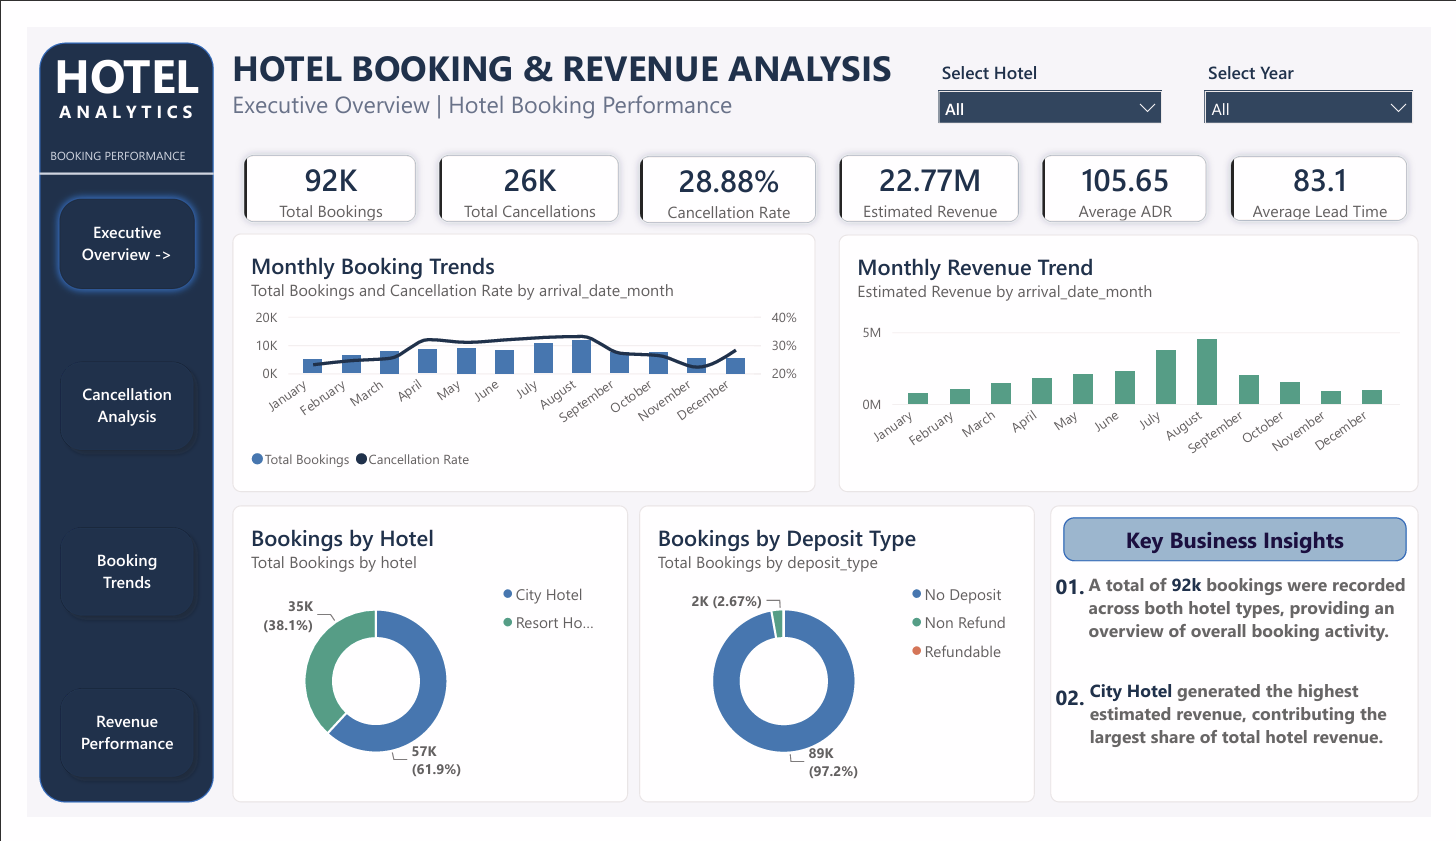

This screenshot's page, from the dashboard's own definition file:
{"tool":"powerbi","page":{"name":"Executive Overview","canvas":[1280,720],"ordinal":0},"visuals":[{"type":"textbox","box":[186.6,13.7,1082.7,81],"z":0},{"type":"textbox","box":[186.6,54.9,465.2,39.8],"z":1000},{"type":"shape","box":[11,13.7,159.2,693],"z":2000},{"type":"textbox","box":[11,13.7,159.2,65.9],"z":3000},{"type":"textbox","box":[20.6,105.7,149.6,28.8],"z":4000},{"type":"shape","box":[11,119.4,159.2,28.8],"z":5000},{"type":"actionButton","box":[20.6,148.2,140,98.8],"z":6000},{"type":"textbox","box":[28.8,65.9,141.3,28.8],"z":7000},{"type":"actionButton","box":[20.6,296.4,140,98.8],"z":8000},{"type":"actionButton","box":[20.6,447.3,140,98.8],"z":9000},{"type":"actionButton","box":[20.6,594.2,140,98.8],"z":10000},{"type":"cardVisual","fields":{"Data":["Hotel Measures.Total Bookings"]},"box":[186.6,105.7,178.4,82.3],"z":11000},{"type":"cardVisual","fields":{"Data":["Hotel Measures.Average Lead Time"]},"box":[1086.8,107,182.5,81],"z":12000},{"type":"cardVisual","fields":{"Data":["Hotel Measures.Total Cancellations"]},"box":[365,105.7,185.2,82.3],"z":13000},{"type":"cardVisual","fields":{"Data":["Hotel Measures.Estimated Revenue"]},"box":[730,105.7,185.2,82.3],"z":14000},{"type":"cardVisual","fields":{"Data":["Hotel Measures.Cancellation Rate"]},"box":[547.5,107,182.5,82.3],"z":15000},{"type":"cardVisual","fields":{"Data":["Hotel Measures.Average ADR"]},"box":[915.3,105.7,171.5,82.3],"z":16000},{"type":"lineClusteredColumnComboChart","title":"Monthly Booking Trends","fields":{"Category":["public hotel_bookings_unique.arrival_date_month"],"Y":["Hotel Measures.Total Bookings"],"Y2":["Hotel Measures.Cancellation Rate"]},"box":[186.6,188,532.4,236],"z":17000},{"type":"clusteredColumnChart","title":"Monthly Revenue Trend","fields":{"Category":["public hotel_bookings_unique.arrival_date_month"],"Y":["Hotel Measures.Estimated Revenue"]},"box":[739.6,189.4,529.7,234.6],"z":18000},{"type":"donutChart","title":"Bookings by Hotel","fields":{"Category":["public hotel_bookings_unique.hotel"],"Y":["Hotel Measures.Total Bookings"]},"box":[186.6,436.4,360.9,270.3],"z":19000},{"type":"donutChart","title":"Bookings by Deposit Type","fields":{"Category":["public hotel_bookings_unique.deposit_type"],"Y":["Hotel Measures.Total Bookings"]},"box":[558.5,436.4,360.9,270.3],"z":20000},{"type":"textbox","title":"Key Insights","box":[933.1,436.4,336.2,270.3],"z":21000},{"type":"slicer","fields":{"Values":["public hotel_bookings_unique.arrival_date_year"]},"box":[1069,30.2,200.3,64.5],"z":22000},{"type":"slicer","fields":{"Values":["public hotel_bookings_unique.hotel"]},"box":[826.1,30.2,214.1,64.5],"z":23000},{"type":"shape","box":[945.5,447.3,312.9,39.8],"z":24000},{"type":"textbox","box":[968.3,496.7,290,75],"z":25000},{"type":"textbox","box":[932.8,497,35.7,195.7],"z":26000},{"type":"textbox","box":[968.5,594,289.4,98.7],"z":27000}]}

Visuals, with their boxes in screenshot pixels (x1, y1, x2, y2), scaled from the page's 1280x720 canvas onto the 1456x841 screenshot:
textbox: region(212, 16, 1444, 111)
textbox: region(212, 64, 741, 111)
shape: region(13, 16, 194, 825)
textbox: region(13, 16, 194, 93)
textbox: region(23, 123, 194, 157)
shape: region(13, 139, 194, 173)
actionButton: region(23, 173, 183, 289)
textbox: region(33, 77, 193, 111)
actionButton: region(23, 346, 183, 462)
actionButton: region(23, 522, 183, 638)
actionButton: region(23, 694, 183, 809)
cardVisual - Hotel Measures.Total Bookings: region(212, 123, 415, 220)
cardVisual - Hotel Measures.Average Lead Time: region(1236, 125, 1444, 220)
cardVisual - Hotel Measures.Total Cancellations: region(415, 123, 626, 220)
cardVisual - Hotel Measures.Estimated Revenue: region(830, 123, 1041, 220)
cardVisual - Hotel Measures.Cancellation Rate: region(623, 125, 830, 221)
cardVisual - Hotel Measures.Average ADR: region(1041, 123, 1236, 220)
"Monthly Booking Trends" lineClusteredColumnComboChart: region(212, 220, 818, 495)
"Monthly Revenue Trend" clusteredColumnChart: region(841, 221, 1444, 495)
"Bookings by Hotel" donutChart: region(212, 510, 623, 825)
"Bookings by Deposit Type" donutChart: region(635, 510, 1046, 825)
"Key Insights" textbox: region(1061, 510, 1444, 825)
slicer - public hotel_bookings_unique.arrival_date_year: region(1216, 35, 1444, 111)
slicer - public hotel_bookings_unique.hotel: region(940, 35, 1183, 111)
shape: region(1076, 522, 1431, 569)
textbox: region(1101, 580, 1431, 668)
textbox: region(1061, 581, 1102, 809)
textbox: region(1102, 694, 1431, 809)
